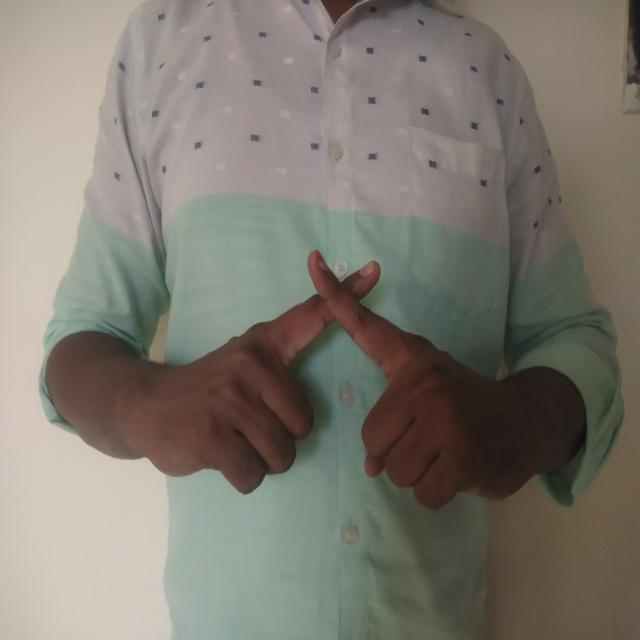X: (146, 229, 520, 529)
